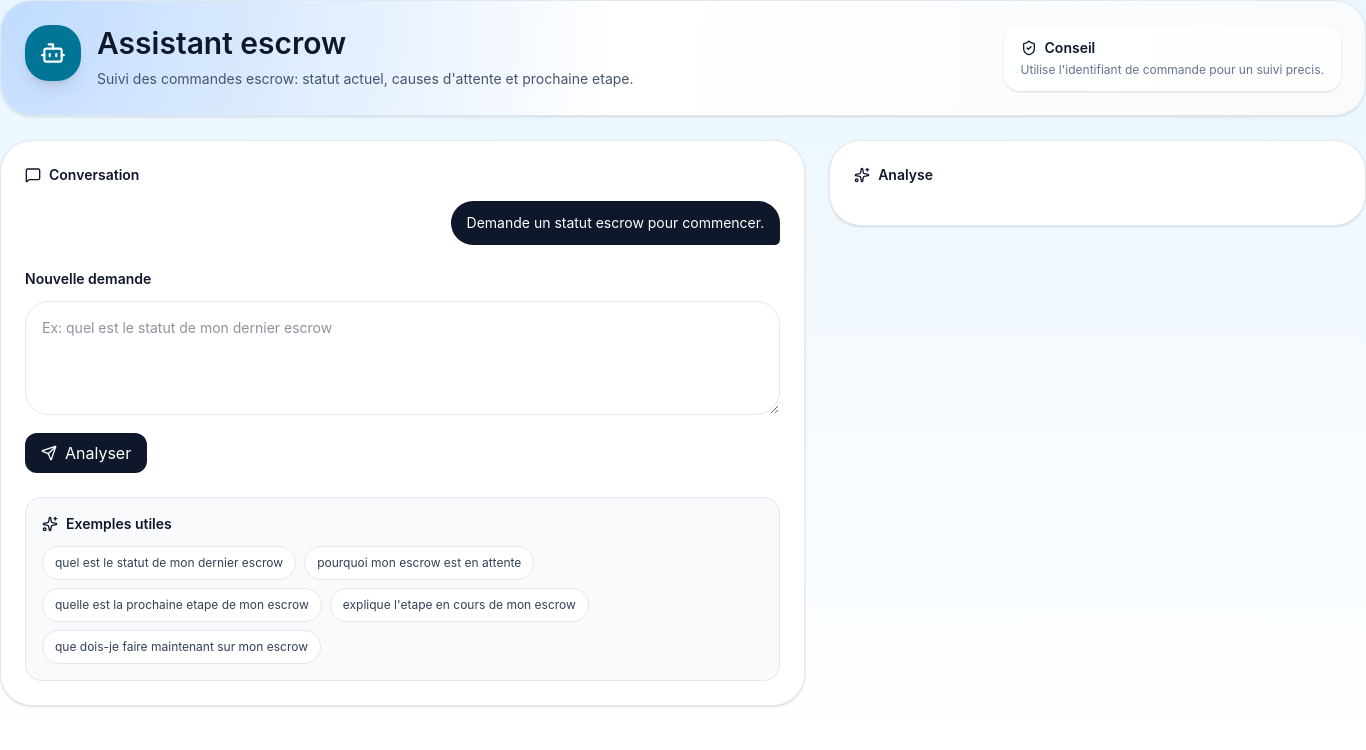
EscrowAgentPage › replays an escrow suggestion when clicked
The image size is (1366, 750).
Click the button "pourquoi mon escrow est en attente" at (419, 563), box [304,546,534,580]
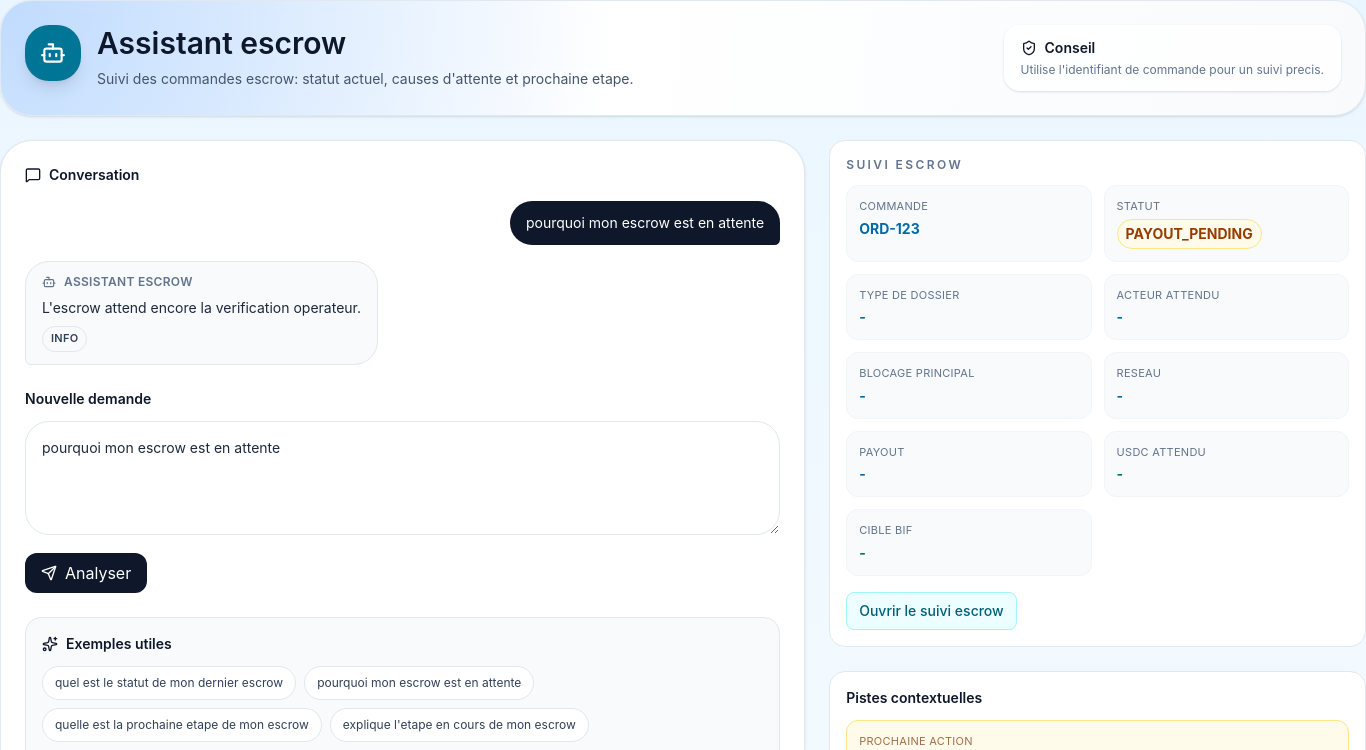
Expected: the text "L'escrow attend encore la verification operateur." is shown, [42,298,361,318]
Click the button "quelle est la prochaine etape de mon escrow" at (182, 725), box [42,708,322,742]
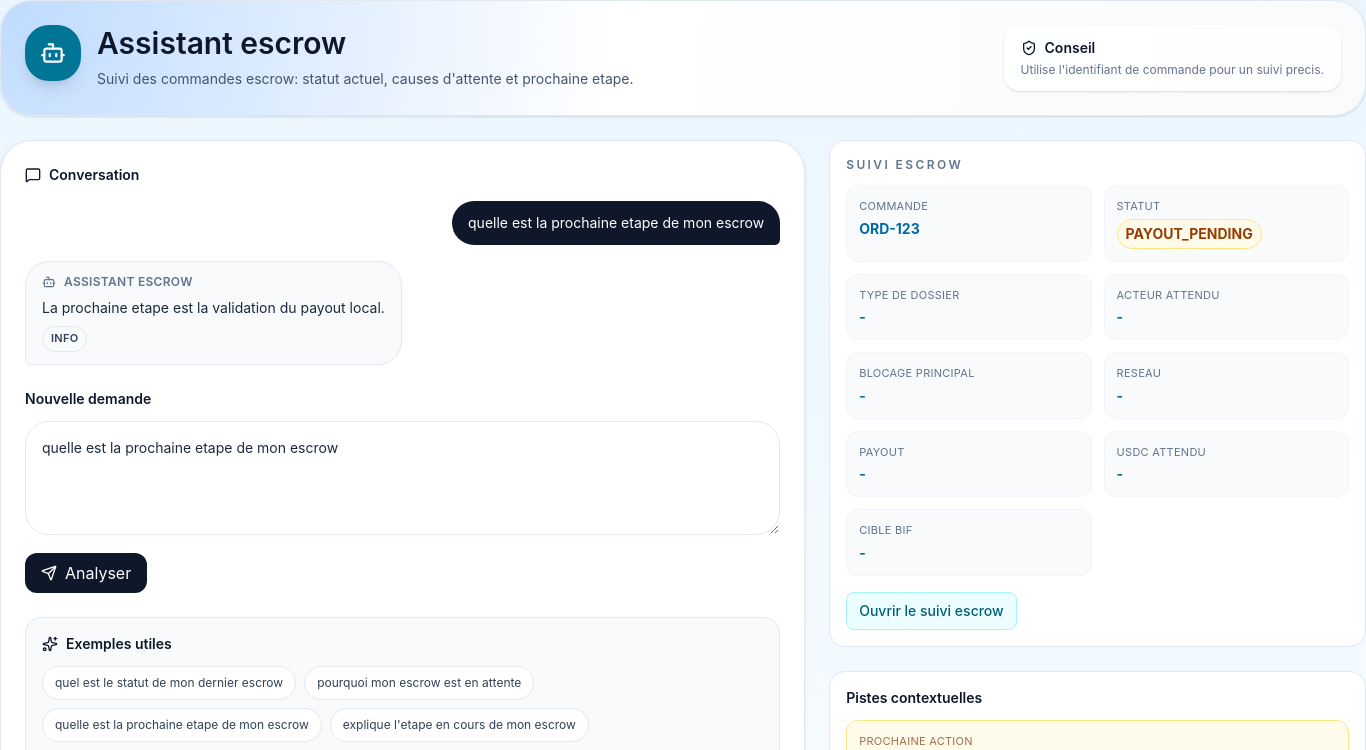
Expected: the text "La prochaine etape est la validation du payout local." is shown, [42,298,385,318]
